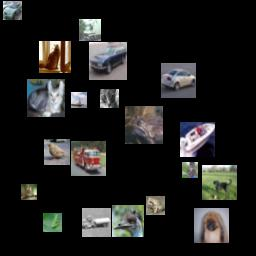automobile: (89, 42, 127, 80), (161, 63, 196, 98), (3, 1, 22, 20)
bird: (112, 205, 144, 237), (44, 139, 70, 165), (182, 162, 198, 178), (21, 184, 37, 200)
cat: (27, 79, 65, 117), (39, 41, 71, 73), (100, 89, 119, 108)
dog: (202, 165, 237, 200), (194, 208, 229, 243)
frog: (125, 106, 163, 144), (43, 213, 62, 232), (146, 196, 165, 215)
ship: (180, 122, 215, 157), (71, 92, 87, 108)
truck: (71, 141, 106, 176), (82, 208, 111, 237), (79, 19, 101, 41)
